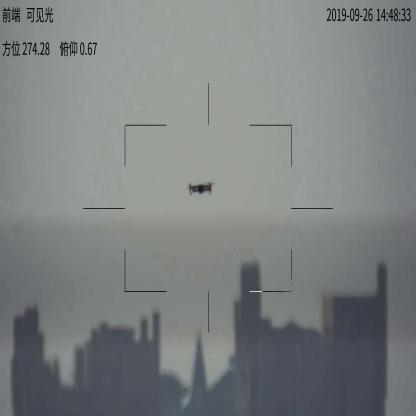uav: (184, 174, 217, 194)
